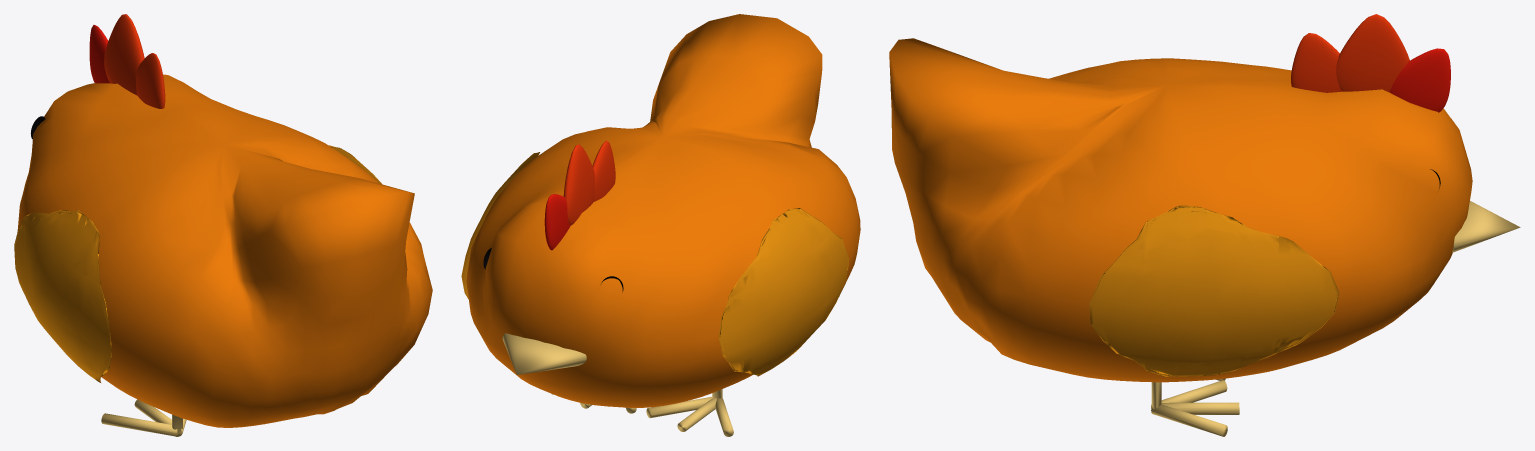
File: galinha_laranja.gltf
The picture shows the model from 3 angles, left to right: view 1: azimuth 30°, elevation 25°; view 2: azimuth 150°, elevation 25°; view 3: azimuth 270°, elevation 25°; orthographic projection. The views are drawn at different scales.
Parts seen in each view (by area): view 1: galinha_laranja; view 2: galinha_laranja; view 3: galinha_laranja.
Part boxes in pixels (x1,y1,x2,y2): galinha_laranja: [14, 14, 432, 436]; galinha_laranja: [461, 14, 860, 436]; galinha_laranja: [889, 14, 1520, 436].
Bounding box in the file's own units: 0.5928 × 0.5879 × 0.9059.
